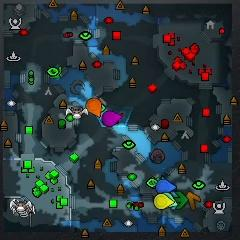p1: (155, 179, 176, 193)
p2: (164, 193, 178, 207)
p3: (102, 110, 123, 127)
p4: (154, 194, 173, 209)
p5: (86, 98, 101, 118)
x4: (173, 192, 187, 210)
x5: (186, 191, 200, 210)
